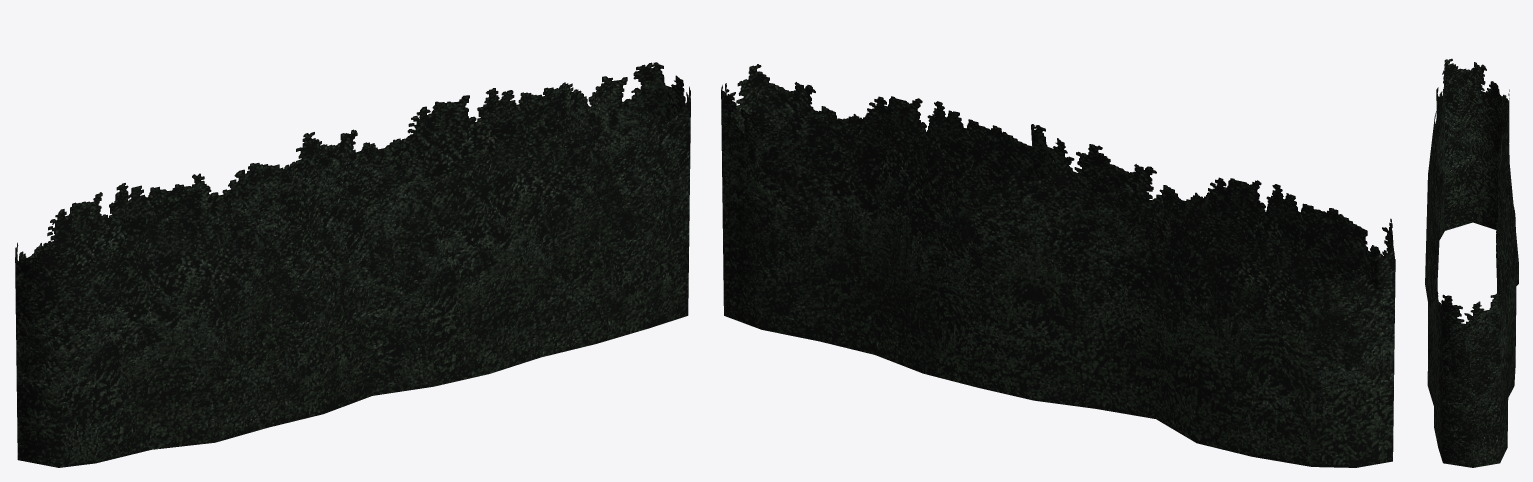
Rendered from SM_EC_ScrubLine_6.fbx.
3 renders of one model, left to right at view 1: azimuth 30°, elevation 25°; view 2: azimuth 150°, elevation 25°; view 3: azimuth 270°, elevation 25°, orthographic. The views are drawn at different scales.
Parts seen in each view (by area): view 1: SM_EC_ScrubLine_6; view 2: SM_EC_ScrubLine_6; view 3: SM_EC_ScrubLine_6.
Part boxes in pixels (x1,y1,x2,y2): SM_EC_ScrubLine_6: (15,62,690,467); SM_EC_ScrubLine_6: (721,64,1395,467); SM_EC_ScrubLine_6: (1425,58,1518,467).
Size of the model in its own units: 10.27 by 1.64 by 4.
